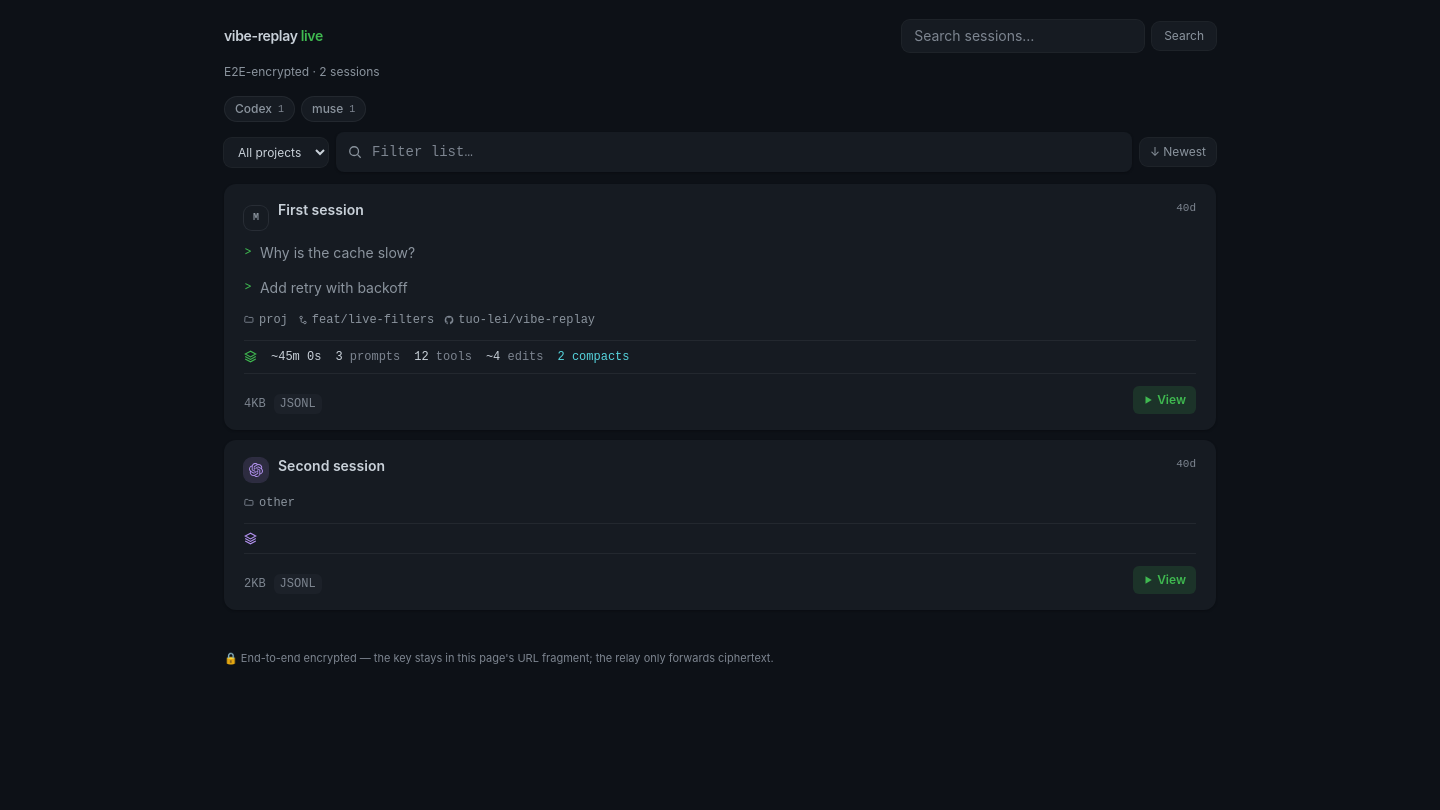
Test: LiveApp › reconnects and restores the open session after a mid-session drop
This screenshot has width=1440, height=810.
Click the text "First session": (321, 210) x1=278 y1=200 x2=364 y2=219
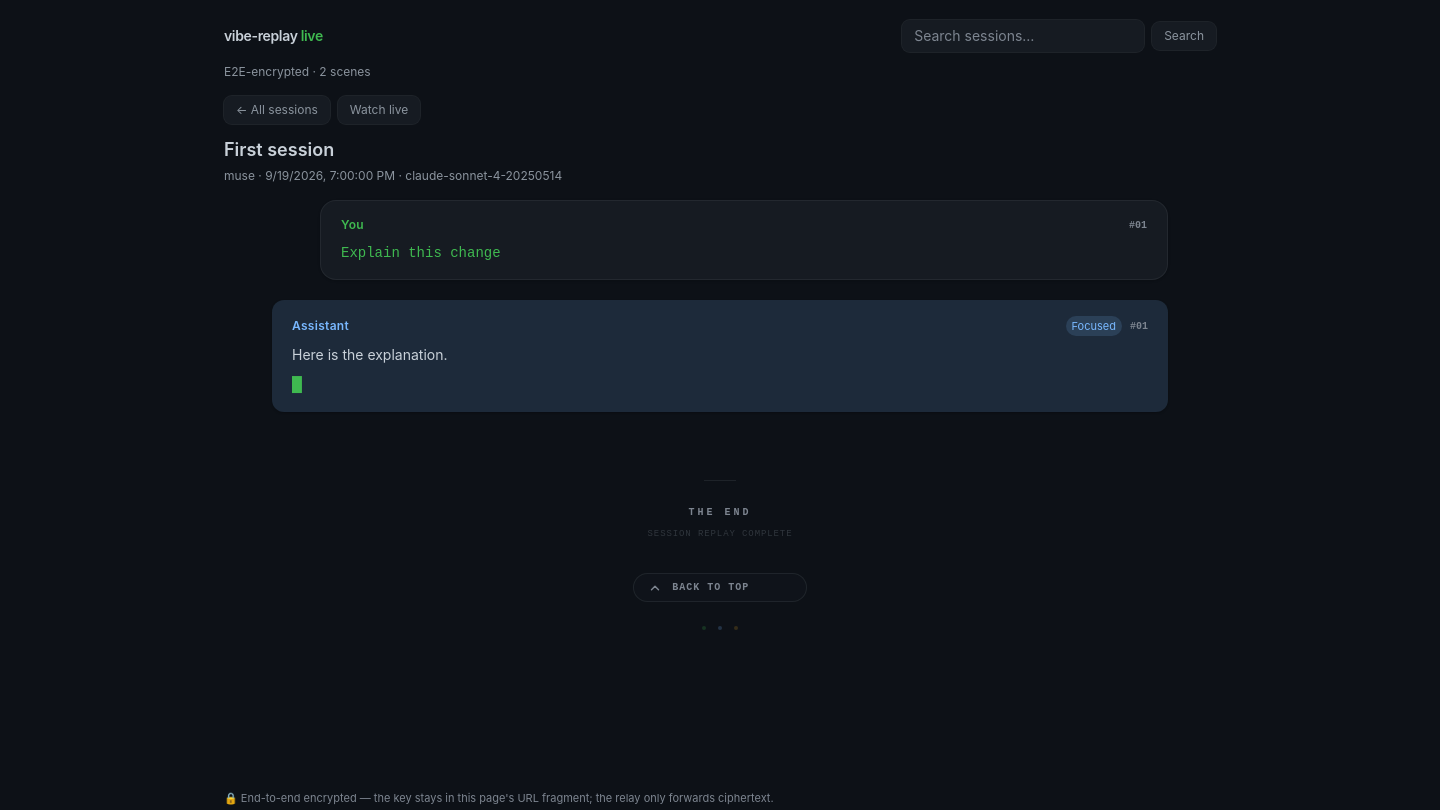
Now the text "Explain this change" is shown, box x1=341 y1=245 x2=501 y2=261
Now the text "E2E-encrypted · 2 scenes" is shown, box x1=224 y1=64 x2=371 y2=79
